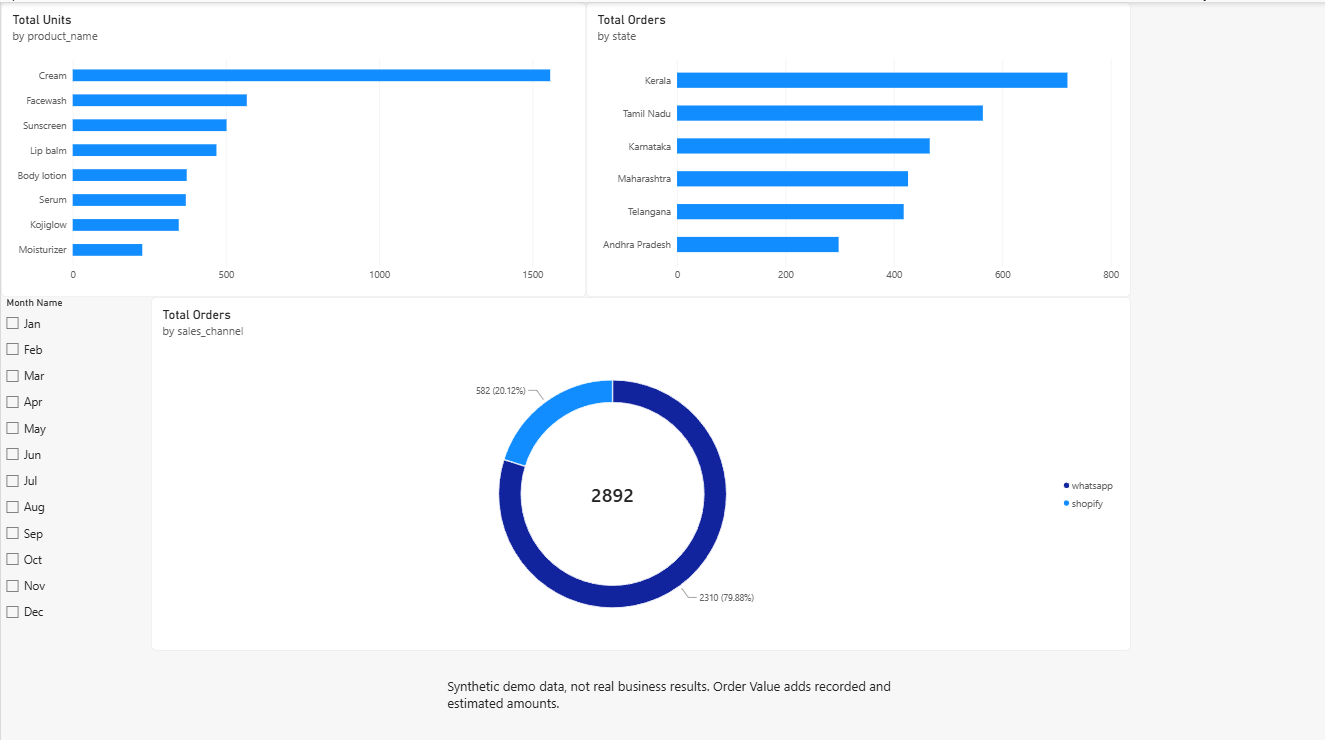

The dashboard page shown, as its layout file describes it:
{"tool":"powerbi","page":{"name":"Sales","canvas":[1920,1080],"ordinal":2},"visuals":[{"type":"clusteredBarChart","fields":{"Category":["clean products.product_name"],"Y":["Date.Total Units"]},"box":[0,0,846.9,427.1],"z":0},{"type":"donutChart","fields":{"Category":["clean orders.sales_channel"],"Y":["Date.Total Orders"]},"box":[217.2,427.1,1418.8,512.1],"z":1000},{"type":"clusteredBarChart","fields":{"Category":["clean orders.state"],"Y":["Date.Total Orders"]},"box":[846.9,0,789,427.1],"z":2000},{"type":"slicer","fields":{"Values":["Date.Month Name"]},"box":[0,427.1,168.3,512.1],"z":3000},{"type":"textbox","box":[646.3,977.7,658.7,84.4],"z":3001}]}

Visuals, with their boxes in screenshot pixels (x1, y1, x2, y2), scaled from the page's 1920x1080 canvas onto the 1325x740 screenshot:
clusteredBarChart - clean products.product_name x Date.Total Units: (0, 0, 584, 293)
donutChart - clean orders.sales_channel x Date.Total Orders: (150, 293, 1129, 644)
clusteredBarChart - clean orders.state x Date.Total Orders: (584, 0, 1129, 293)
slicer - Date.Month Name: (0, 293, 116, 644)
textbox: (446, 670, 901, 728)
